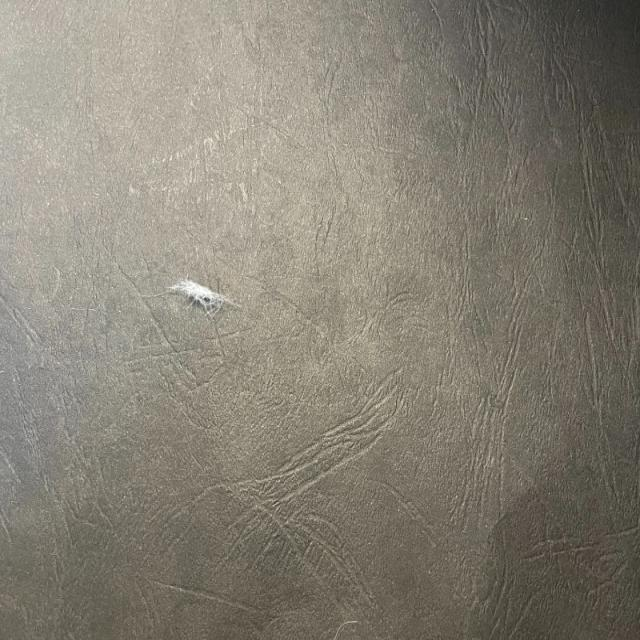feather: (170, 276, 233, 316)
